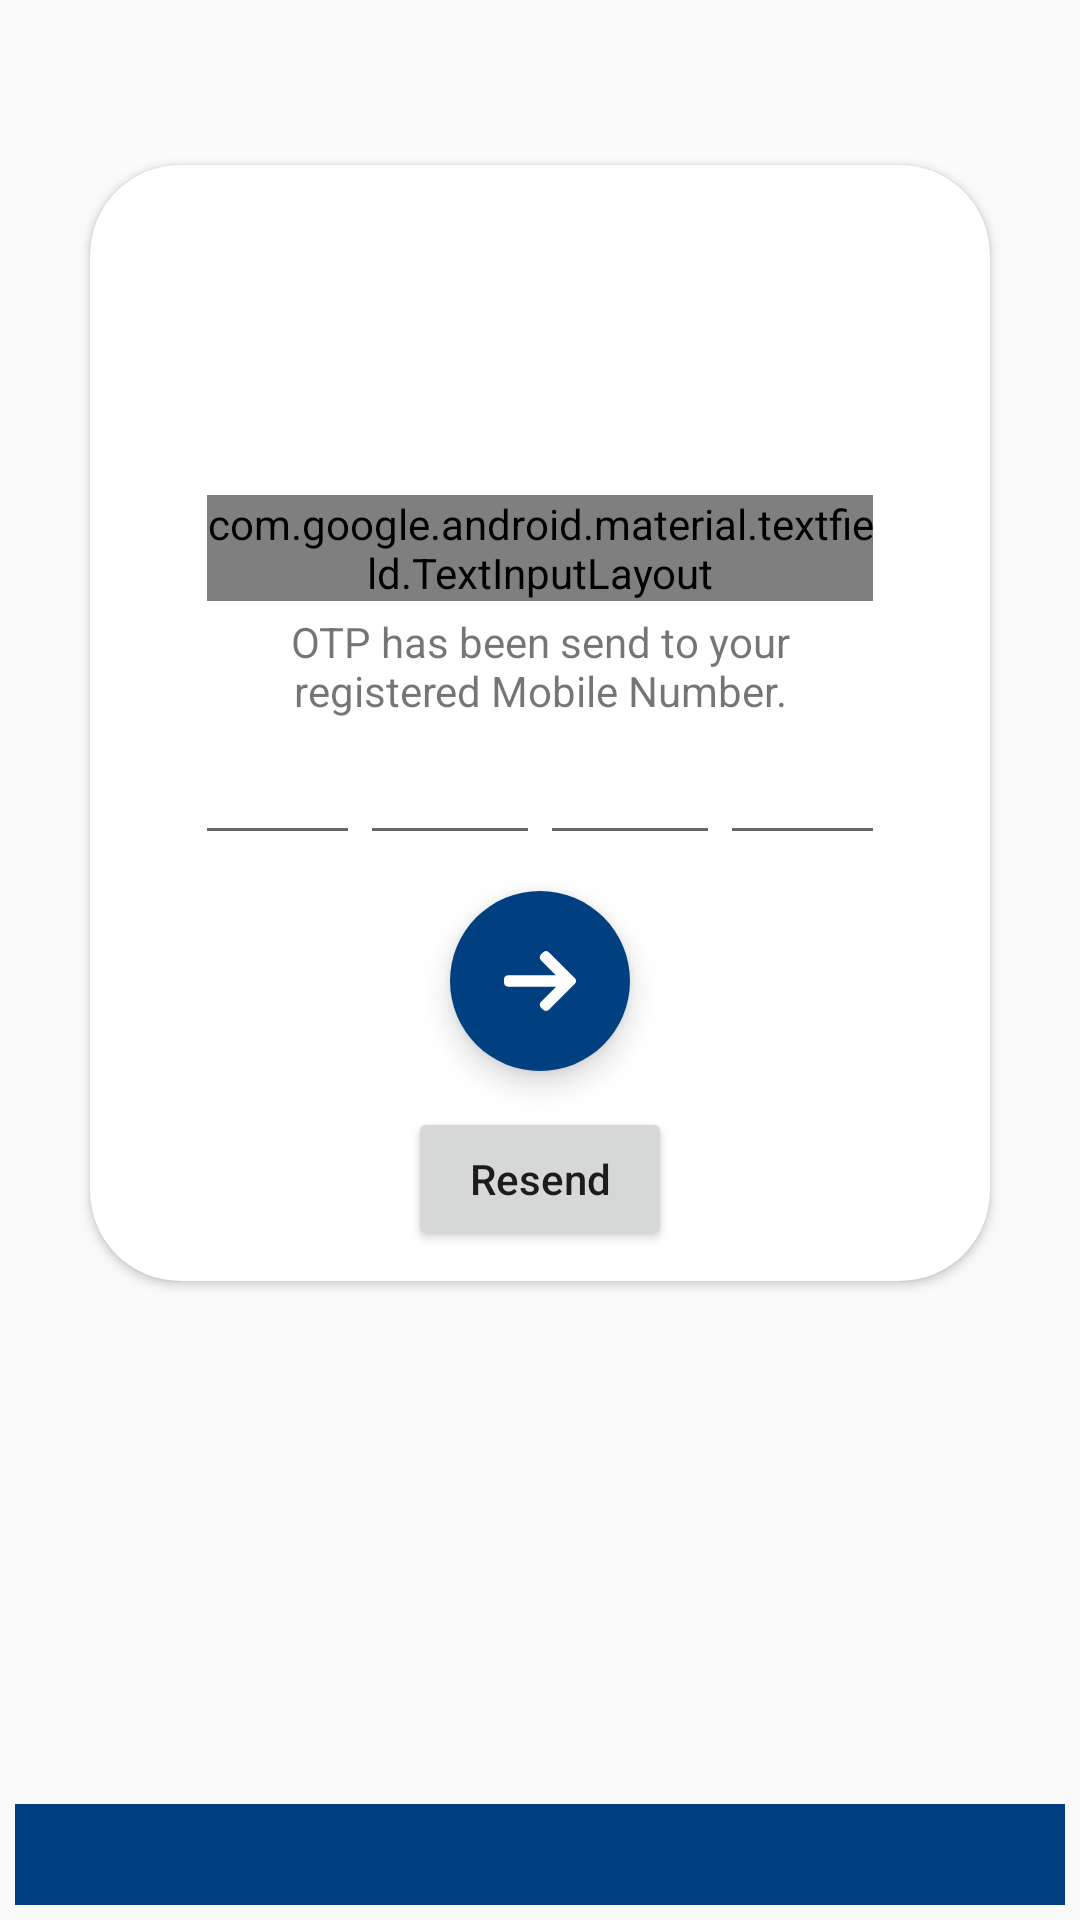

Icons on this 1080*1920 Android screen, each with its box as (x1, y1, x2, y2):
right arrow: (450, 891, 630, 1071)
